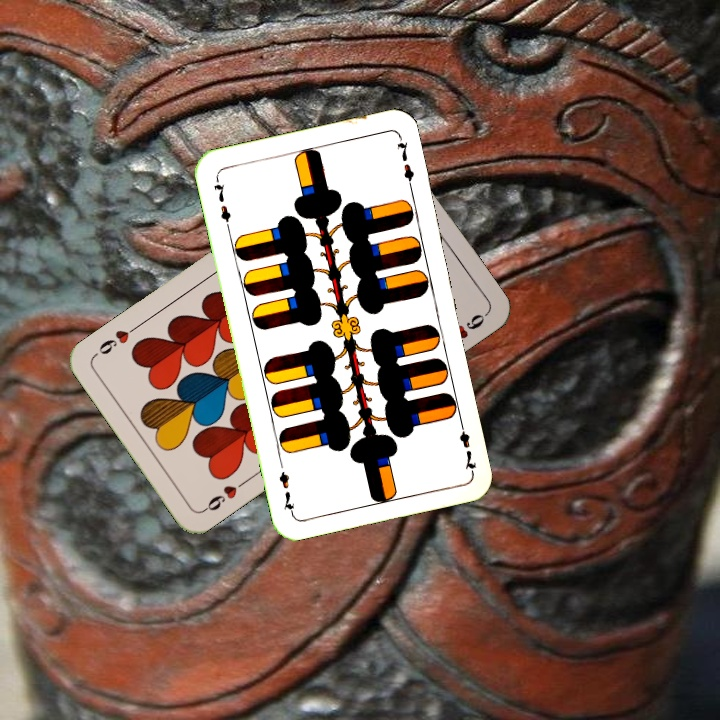E7: (209, 173, 234, 232), (455, 416, 479, 475)
H9: (198, 475, 250, 515)
